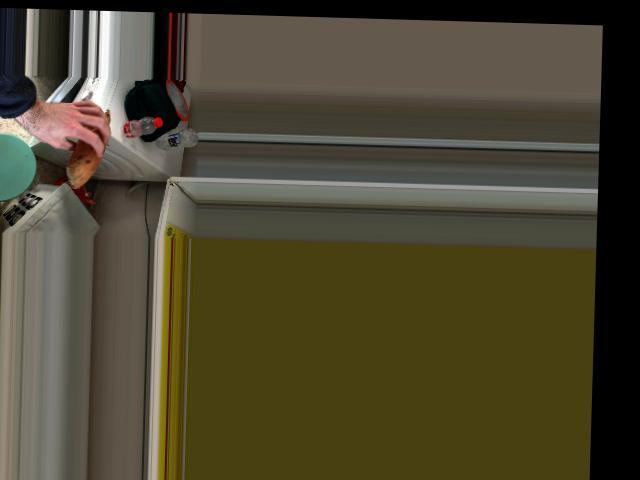sweet_potato: (72, 105, 110, 182)
